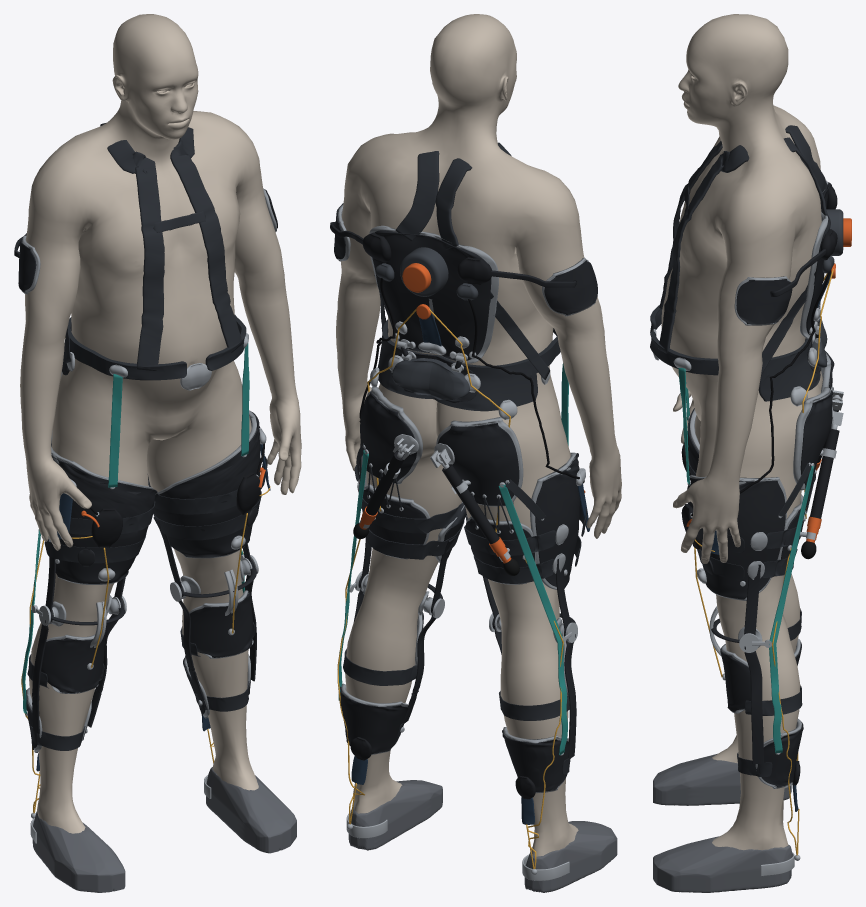
The model's file is sitka_stand.glb.
The picture shows the model from 3 angles, left to right: view 1: azimuth 30°, elevation 25°; view 2: azimuth 150°, elevation 25°; view 3: azimuth 270°, elevation 25°; orthographic projection.
Parts seen in each view (by area): view 1: body_stand, harness_r, thigh_shell_l, thigh_shell_r, shoe_r, shoe_l, harness_l, ptb_shell_l, ptb_shell_r, hip_belt, thigh_strap0_l, thigh_strap1_l (+16 smaller); view 2: body_stand, back_panel, seat_cup_r, hip_belt, shoe_r, shoe_l, thigh_shell_r, seat_cup_l, calf_cuff_l, p1_battery, calf_cuff_r, hamstring_band_r (+27 smaller); view 3: body_stand, shoe_l, thigh_shell_l, shoe_r, hip_belt, harness_l, m5_armcuff_l, hamstring_band_l, seat_cup_l, harness_r, calf_cuff_l, shin_arm_lat_l (+18 smaller).
Part boxes in pixels (left/top/right/bottom): body_stand: left=20, top=14, right=301, bottom=833; harness_r: left=100, top=123, right=164, bottom=370; thigh_shell_l: left=153, top=412, right=260, bottom=557; thigh_shell_r: left=51, top=455, right=155, bottom=583; shoe_r: left=32, top=811, right=125, bottom=892; shoe_l: left=206, top=767, right=296, bottom=853; harness_l: left=170, top=127, right=242, bottom=352; ptb_shell_l: left=185, top=592, right=253, bottom=657; ptb_shell_r: left=41, top=631, right=106, bottom=692; hip_belt: left=62, top=314, right=246, bottom=380; thigh_strap0_l: left=147, top=456, right=267, bottom=514; thigh_strap1_l: left=153, top=490, right=261, bottom=540; body_stand: left=336, top=14, right=621, bottom=856; back_panel: left=372, top=230, right=491, bottom=360; seat_cup_r: left=437, top=423, right=519, bottom=505; hip_belt: left=377, top=319, right=560, bottom=411; shoe_r: left=524, top=821, right=617, bottom=892; shoe_l: left=348, top=780, right=442, bottom=850; thigh_shell_r: left=535, top=453, right=579, bottom=588; seat_cup_l: left=360, top=392, right=416, bottom=483; calf_cuff_l: left=340, top=686, right=408, bottom=753; p1_battery: left=392, top=358, right=469, bottom=399; calf_cuff_r: left=502, top=730, right=570, bottom=791; hamstring_band_r: left=498, top=484, right=567, bottom=754; body_stand: left=661, top=14, right=822, bottom=850; shoe_l: left=653, top=836, right=792, bottom=892; thigh_shell_l: left=687, top=477, right=785, bottom=599; shoe_r: left=653, top=753, right=791, bottom=805; hip_belt: left=650, top=305, right=820, bottom=401; harness_l: left=658, top=137, right=827, bottom=353; m5_armcuff_l: left=736, top=279, right=792, bottom=324; hamstring_band_l: left=769, top=465, right=814, bottom=753; seat_cup_l: left=800, top=390, right=833, bottom=487; harness_r: left=659, top=125, right=828, bottom=309; calf_cuff_l: left=758, top=722, right=803, bottom=787; shin_arm_lat_l: left=744, top=646, right=763, bottom=763.
Bounding box in the file's own units: 0.6493 × 1.9 × 0.4237.
